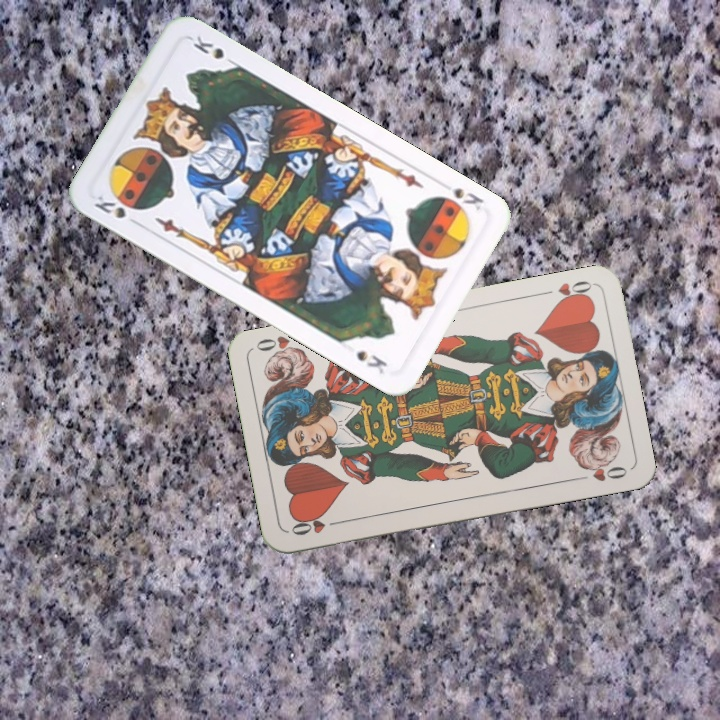HO: (537, 276, 595, 307), (287, 512, 345, 538)
SK: (90, 191, 143, 229), (449, 183, 487, 213)
